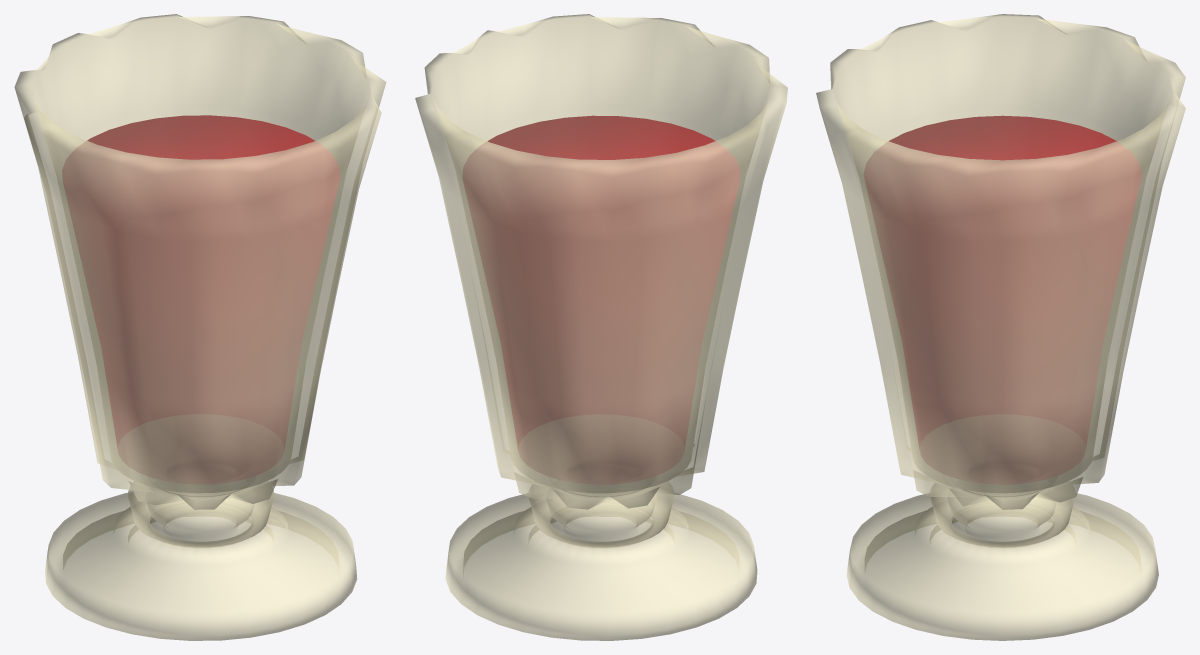
Rendered from sircha.glb.
3 views of the same model, side by side, from view 1: azimuth 30°, elevation 25°; view 2: azimuth 150°, elevation 25°; view 3: azimuth 270°, elevation 25° (orthographic).
Parts seen in each view (by area): view 1: Circle, Circle.001; view 2: Circle, Circle.001; view 3: Circle, Circle.001.
Part boxes in pixels (bbox=[...]): Circle: bbox=[14, 14, 386, 640]; Circle.001: bbox=[62, 115, 339, 448]; Circle: bbox=[415, 14, 787, 640]; Circle.001: bbox=[463, 115, 739, 448]; Circle: bbox=[816, 14, 1185, 640]; Circle.001: bbox=[864, 115, 1141, 446].
Size of the model in its own units: 1.33 by 1.91 by 1.32.
